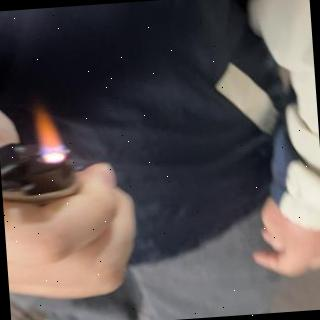fire: (30, 102, 66, 154)
